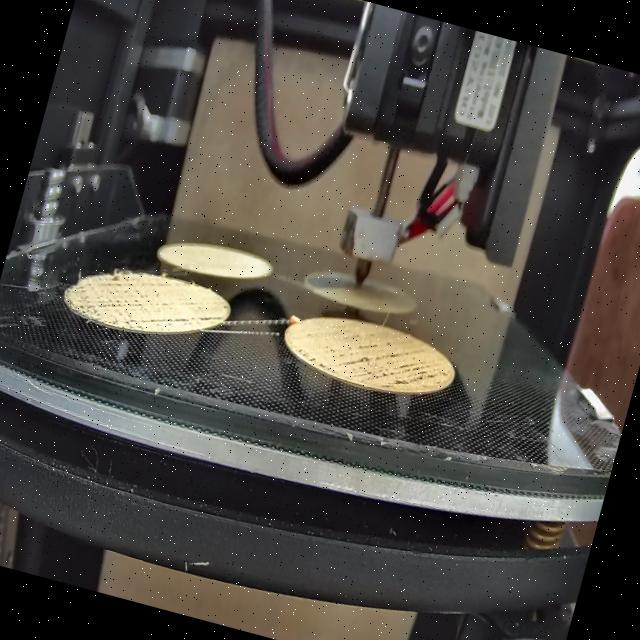under_extrusion: (294, 316, 456, 401), (74, 263, 228, 352)
